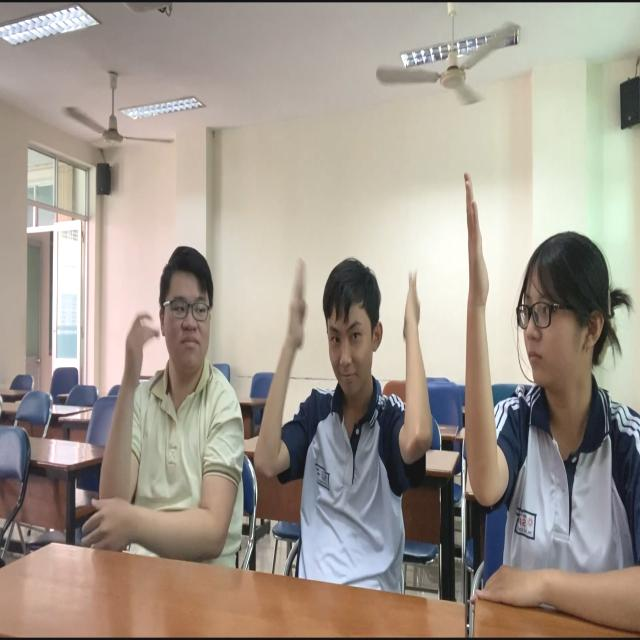raise_hand: (462, 169, 640, 610)
